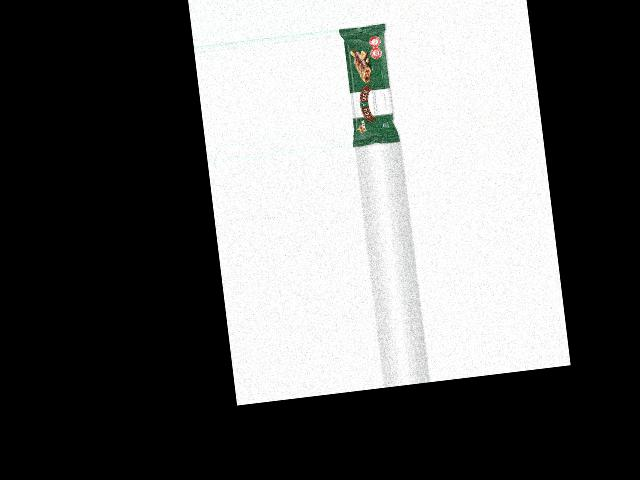chocolate: (338, 22, 402, 149)
